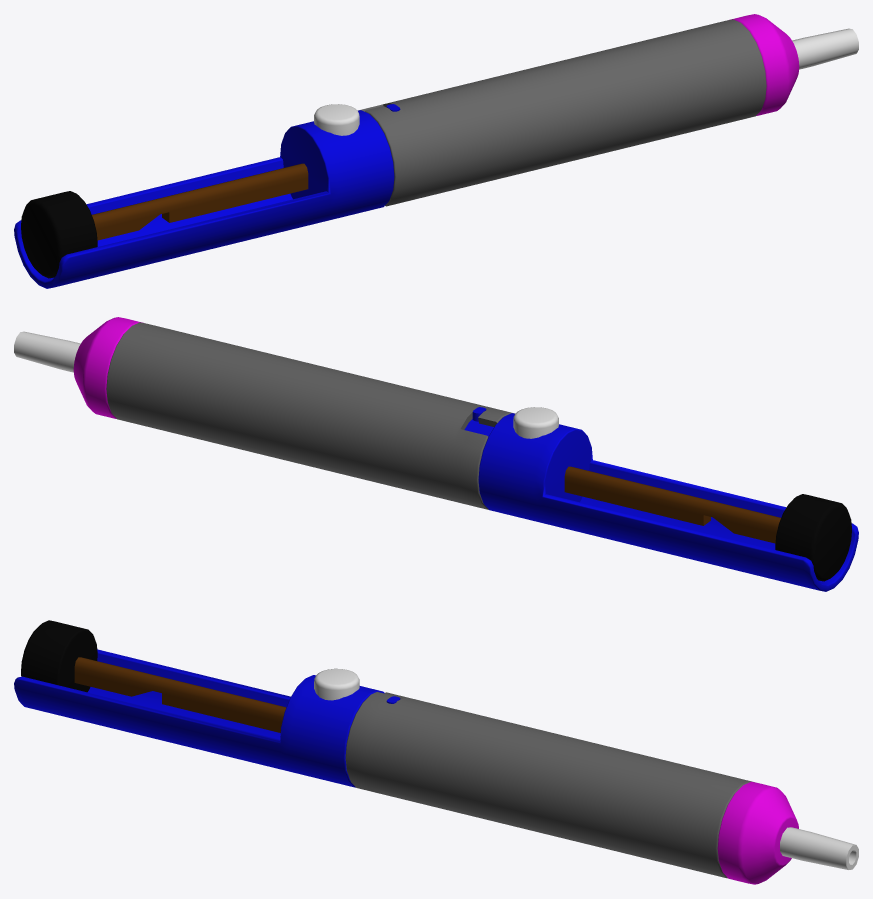
File: Оловоотсос.fbx
The picture shows the model from 3 angles, top to bottom: view 1: azimuth 30°, elevation 25°; view 2: azimuth 150°, elevation 25°; view 3: azimuth 330°, elevation 25°; orthographic projection.
Visible parts, largest first — view 1: Корпус оловотсоса, Пружина, Кнопка; view 2: Корпус оловотсоса, Пружина, Кнопка; view 3: Корпус оловотсоса, Пружина, Кнопка.
Boxes of the visible parts, x1,y1,x2,y2 form: Корпус оловотсоса: [14, 14, 858, 288]; Пружина: [21, 163, 308, 278]; Кнопка: [314, 104, 359, 135]; Корпус оловотсоса: [14, 317, 858, 591]; Пружина: [564, 466, 851, 581]; Кнопка: [513, 407, 558, 438]; Корпус оловотсоса: [14, 649, 858, 884]; Пружина: [21, 620, 286, 732]; Кнопка: [314, 668, 359, 700].
Bounding box in the file's own units: 0.1864 × 0.022 × 0.02.
